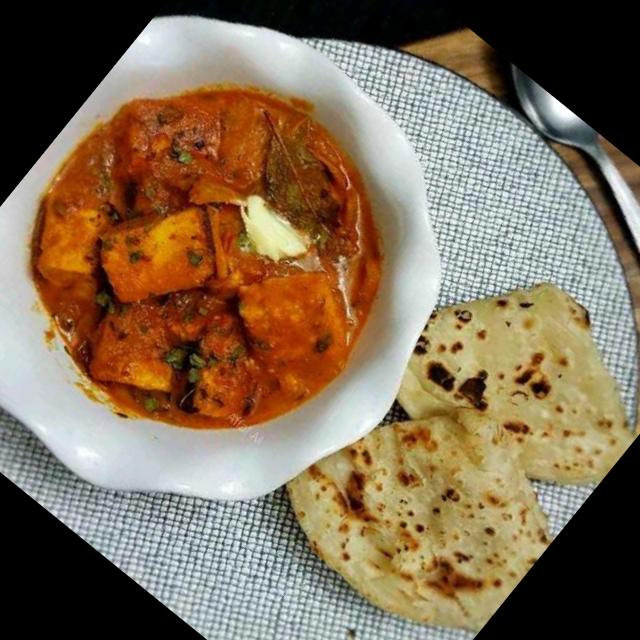roti: (270, 246, 640, 640)
